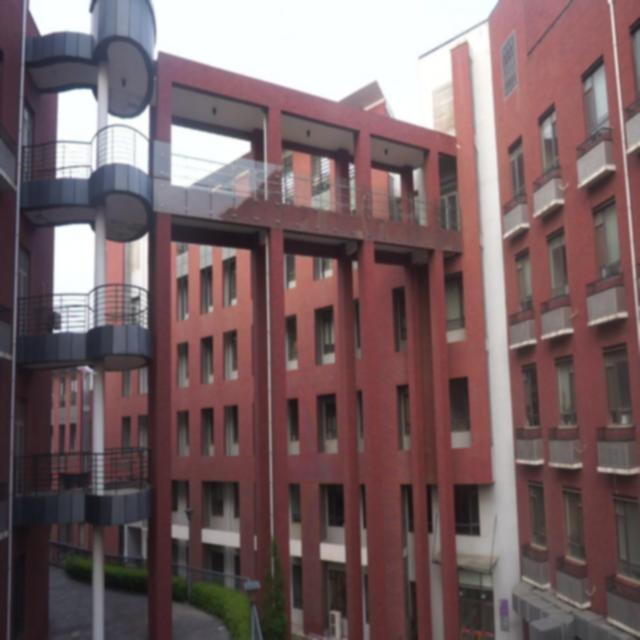UAV: (76, 365, 98, 381)
